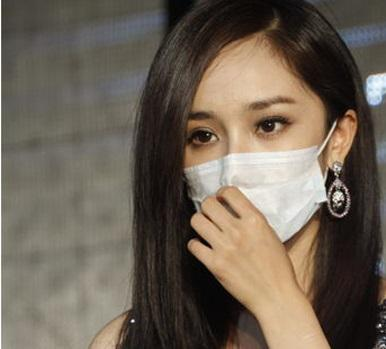OK: (180, 81, 320, 251)
